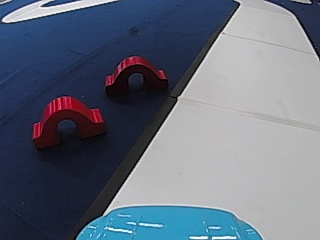bridge: (28, 92, 107, 148), (101, 51, 170, 96)
